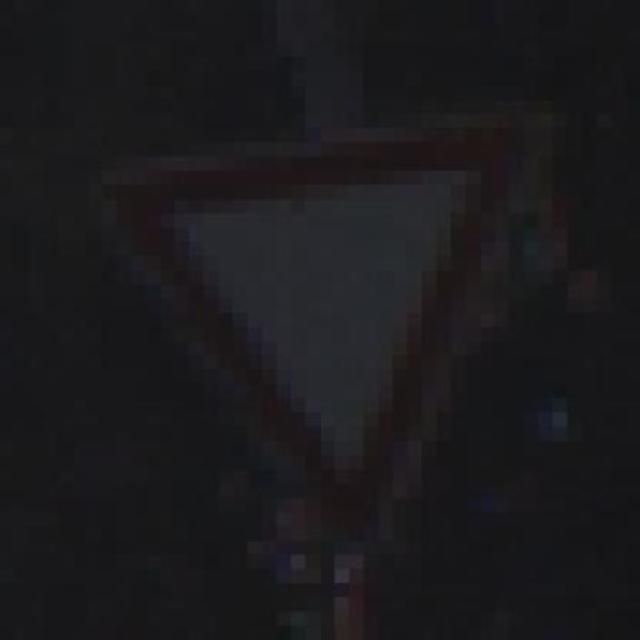Give Way: (43, 101, 597, 570)
